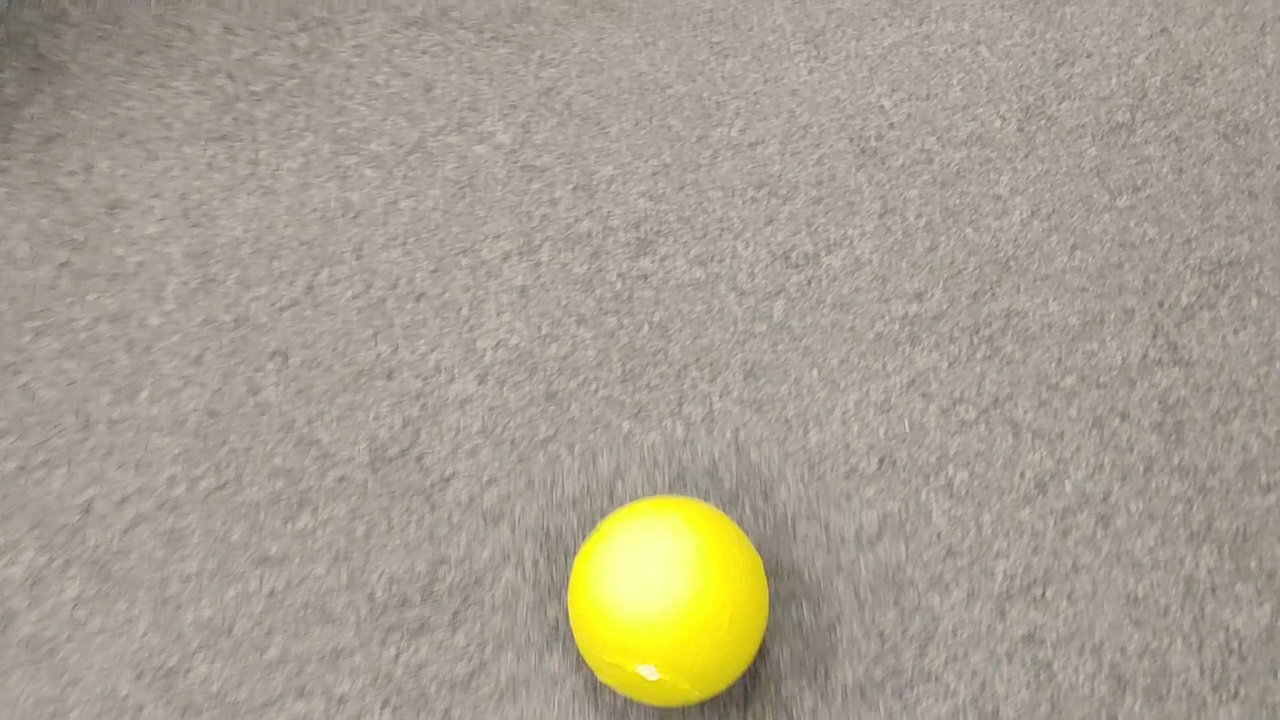Ball: (565, 493, 773, 712)
